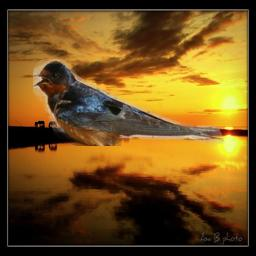Swallow: (33, 59, 224, 146)
